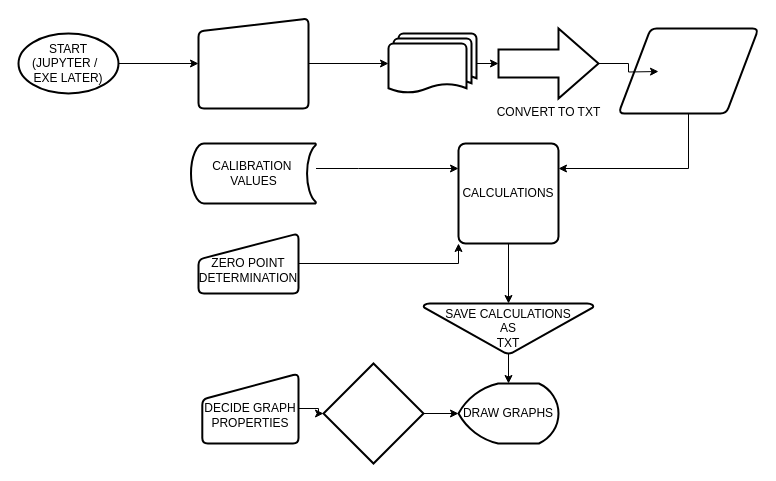
The diagram is 776 pixels wide and 481 high, and some of its shapes have lost their labels. Here are the shapes that lost their labels. From the top down, the centre of each, then its label:
(253,63): USER INPUT TEST TYPE, SEGMENTS AND FILE PATH
(432,63): TAKE .BIN
(688,70): GET RAW DATA AS DATAFRAMES
(373,413): SHOW EXPERIMENTS TOGETHER
